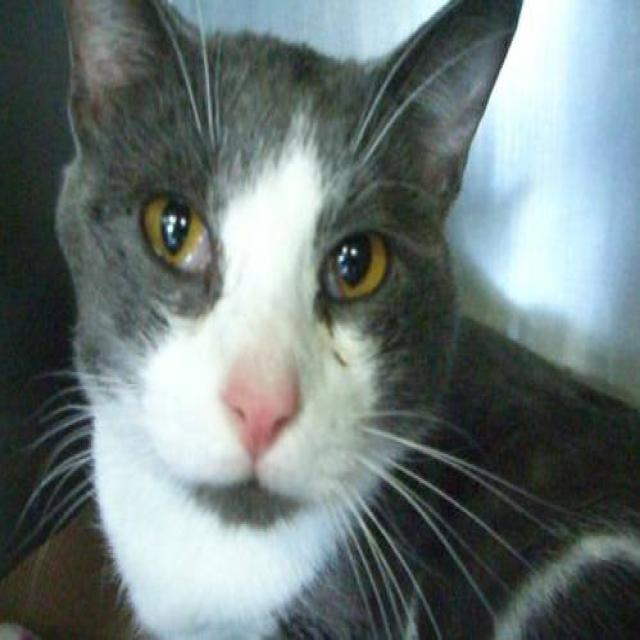Cat: (59, 4, 534, 546)
